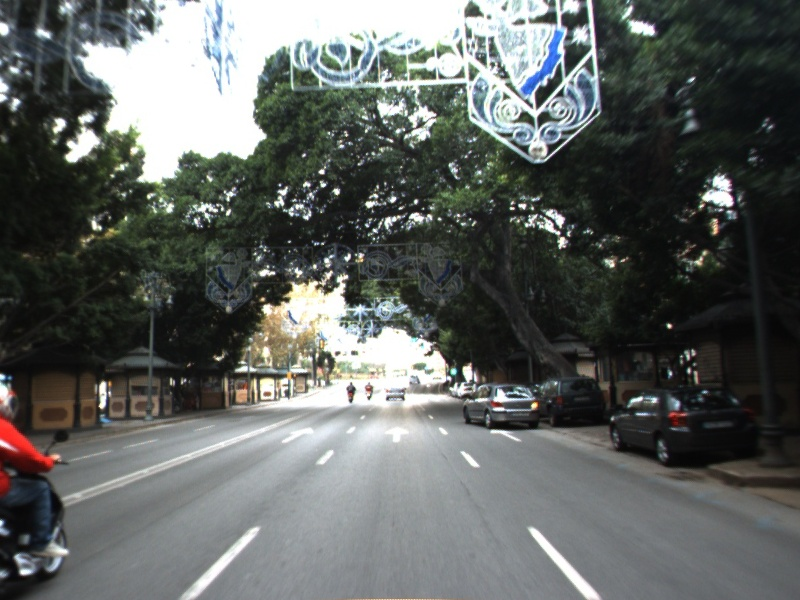STRAIGHT: (279, 425, 316, 445), (488, 427, 525, 444), (382, 424, 412, 444)
